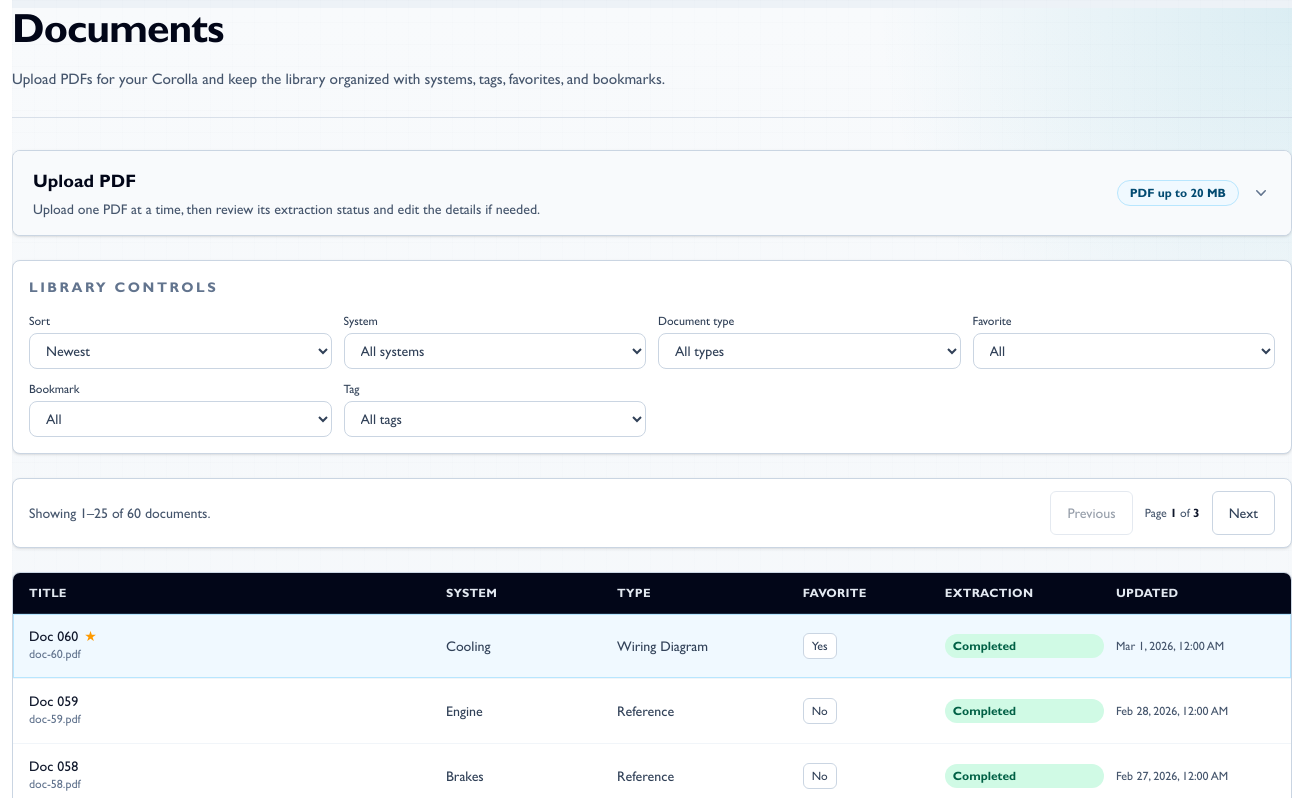
Test case: a tag filter is applied by the server across the whole library
Expected: the heading "Library controls" is shown, [29,277,218,297]
# Doc 001 is the oldest document, on page three of the unfiltered list.
Select "#Torque-Specs" in the dropdown labelled "Tag". click: (495, 419)
box: [344,401,646,437]
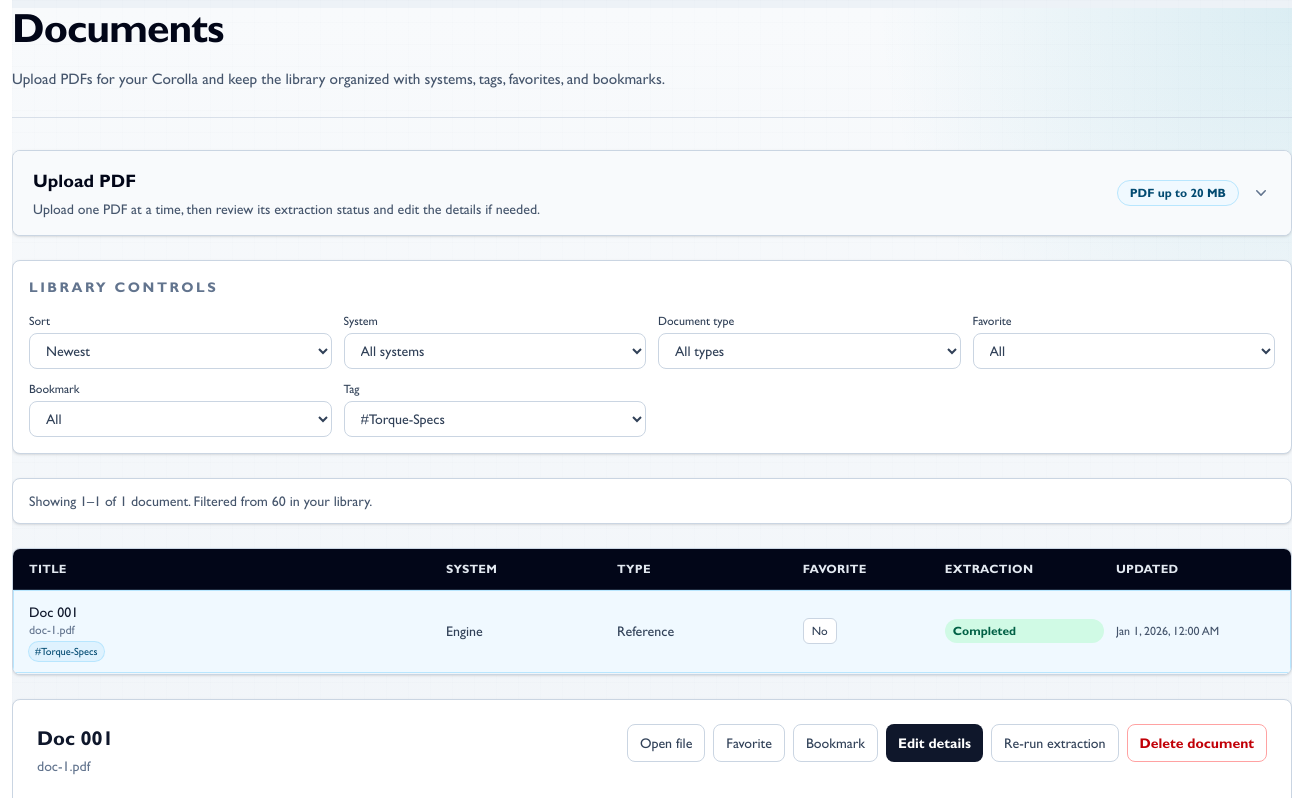
Now the text "Showing 1–1 of 1 document. Filtered from 60 in your library." is shown, box [29,491,372,511]
